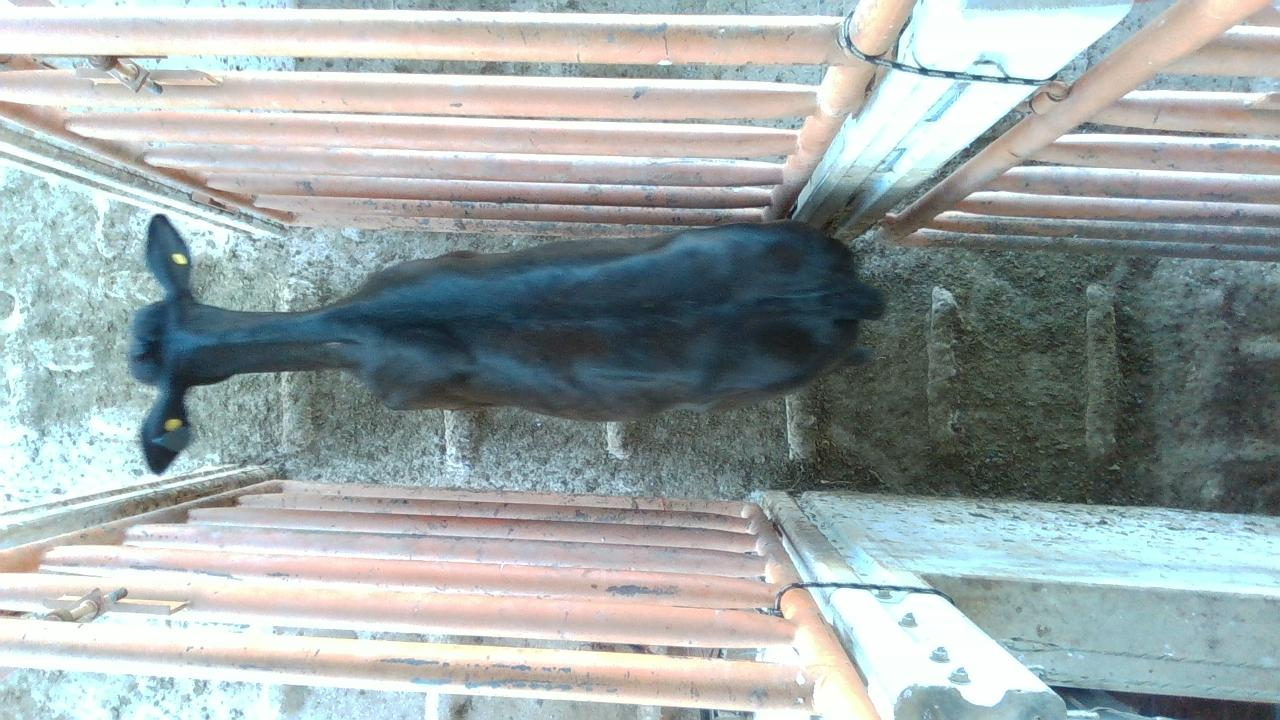cattle: (126, 211, 887, 474)
